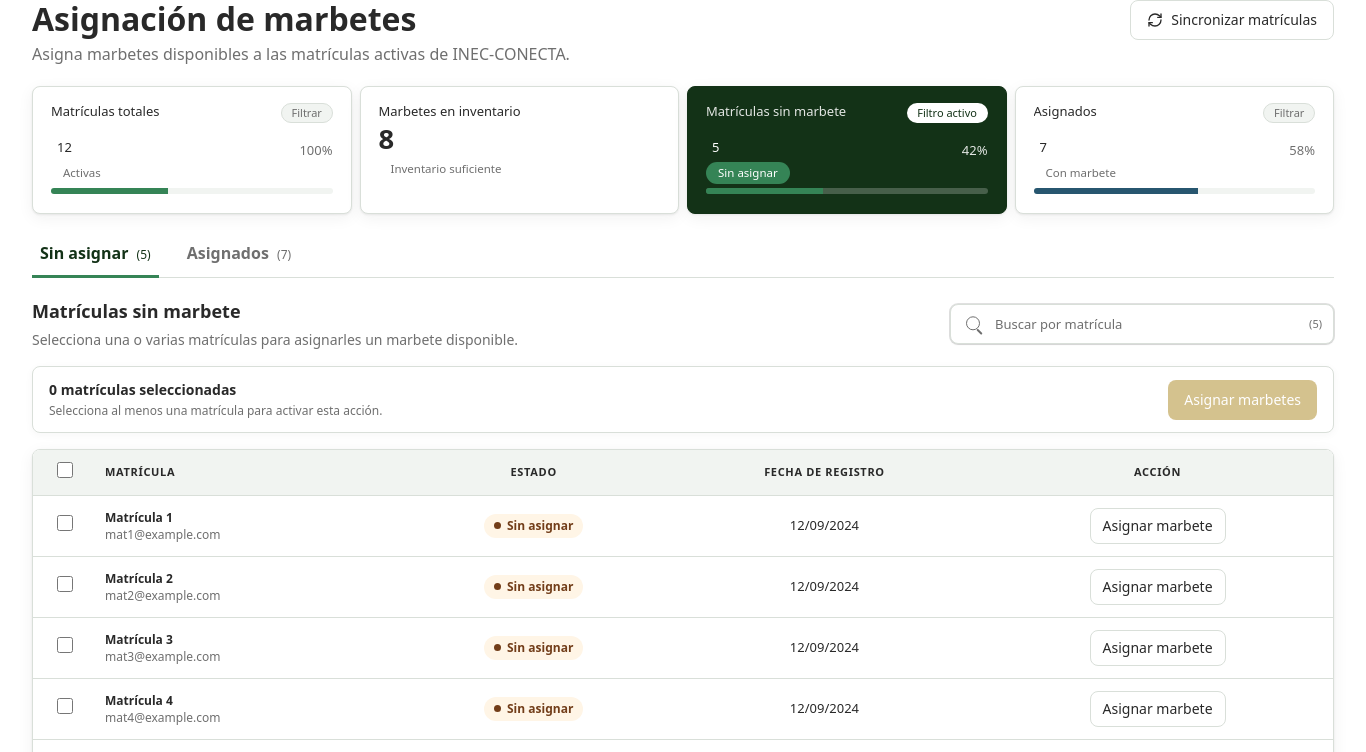
Test: AsociarPageClient › keeps the assign submit disabled while the review has conflicts
What coordinates should you click on to do the following:
click the checkbox with test id "unassigned-check-1"
I would click on:
 (65, 523)
Its box is [57, 515, 73, 531].
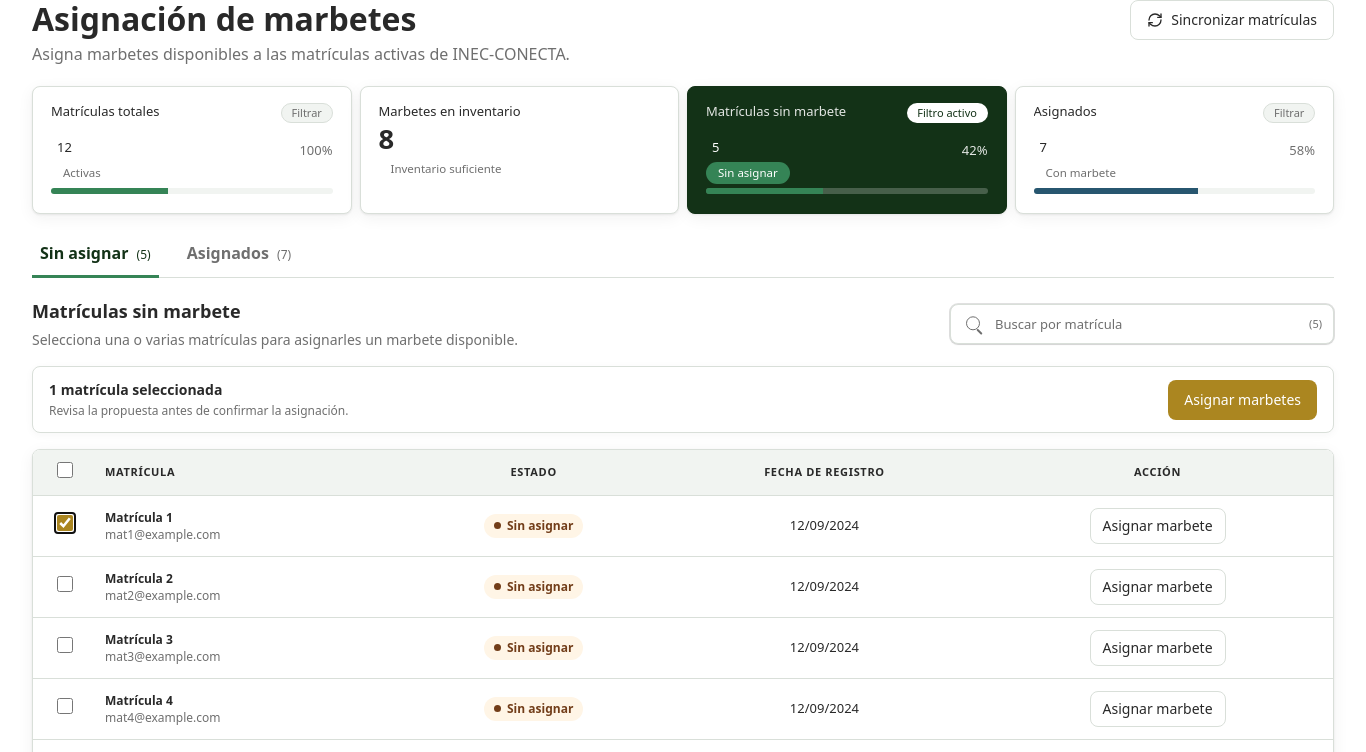
What coordinates should you click on to do the following:
click the checkbox with test id "unassigned-check-2"
I would click on:
 (65, 584)
Its box is [57, 576, 73, 592].
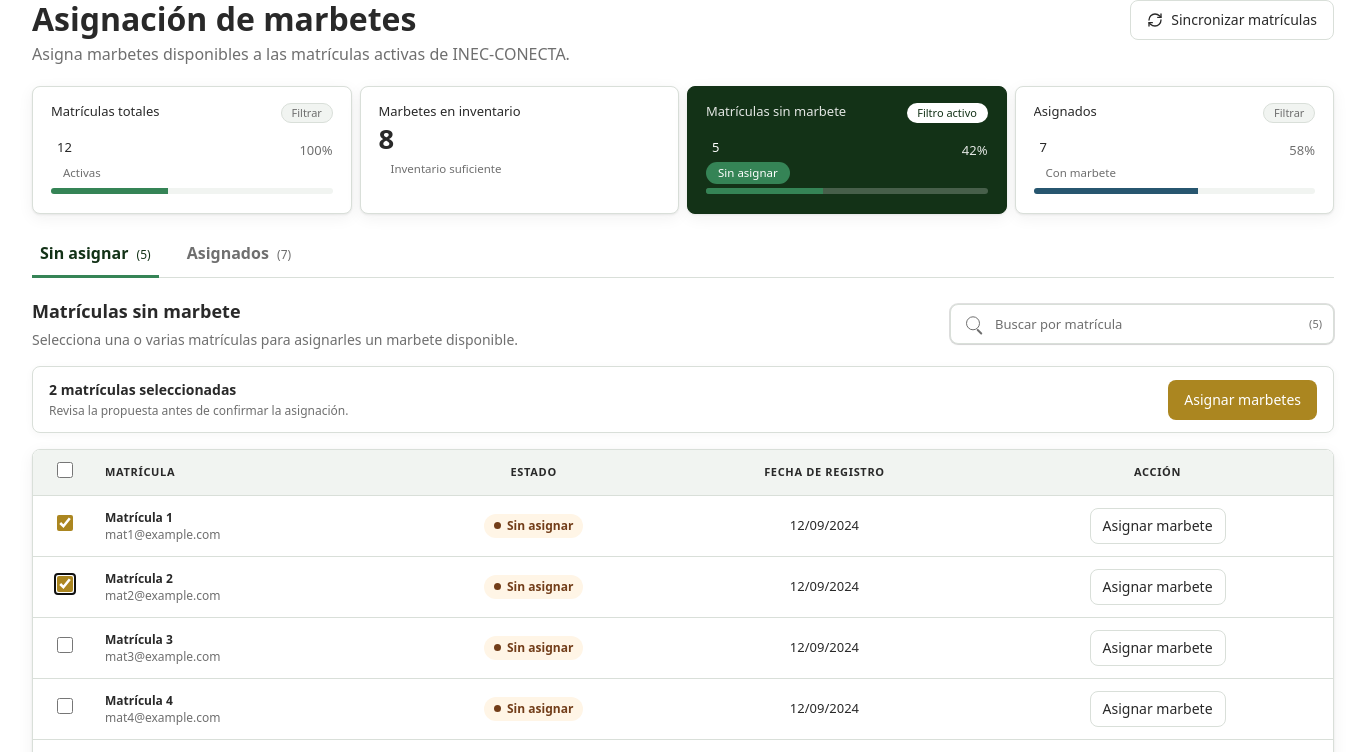
What coordinates should you click on to do the following:
click the button with test id "open-bulk-assign"
I would click on:
 (1243, 400)
Its box is [1168, 380, 1317, 420].
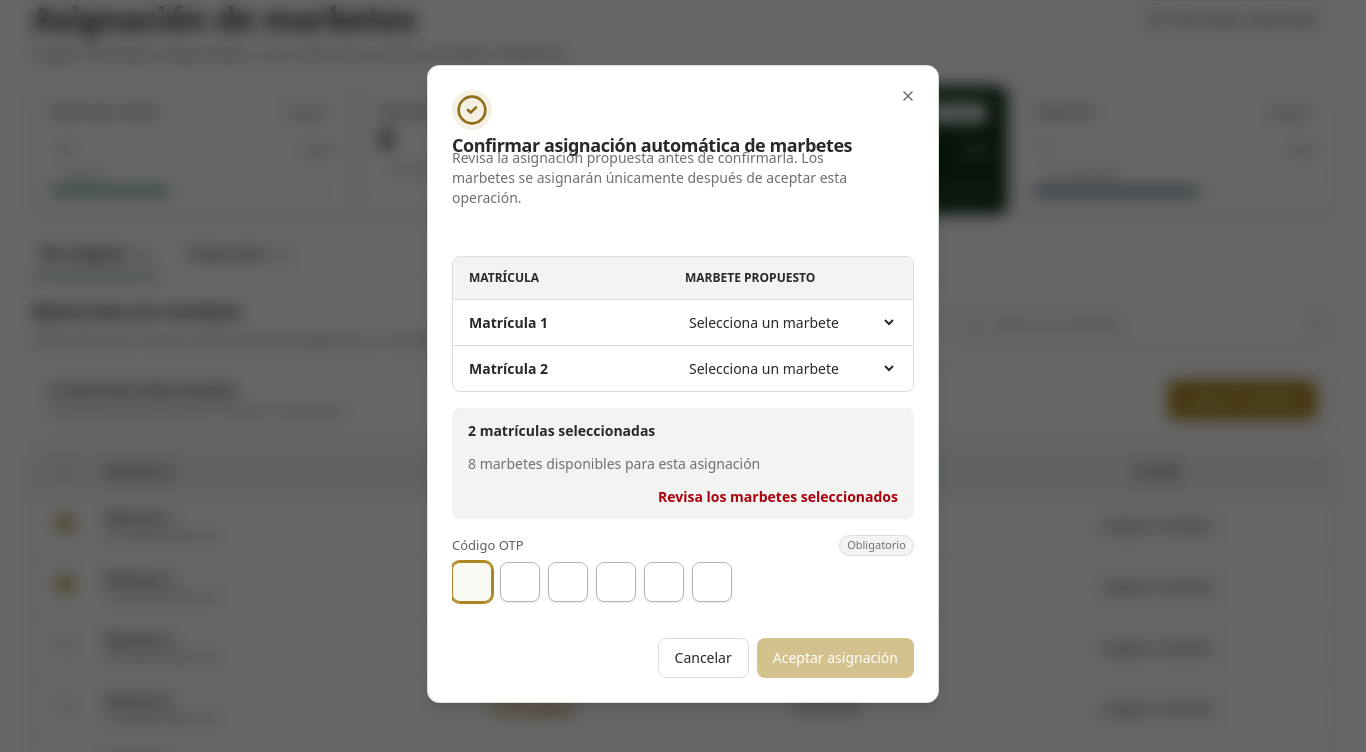
Expected: the dialog with test id "assign-review-modal" is shown, [427, 65, 939, 703]
Expected: the text with test id "assign-review-validation" reads "Revisa los marbetes seleccionados", [658, 487, 898, 506]
Expected: the button with test id "assign-review-confirm" is disabled, [757, 638, 914, 678]
